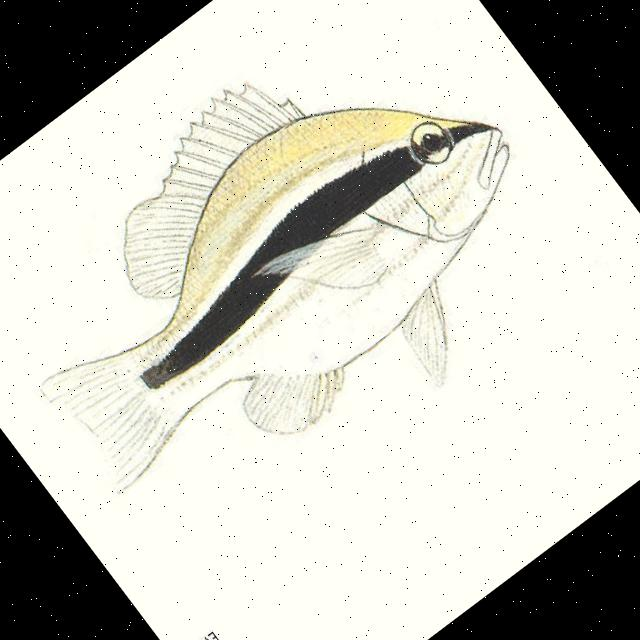ikan: (0, 0, 603, 581)
